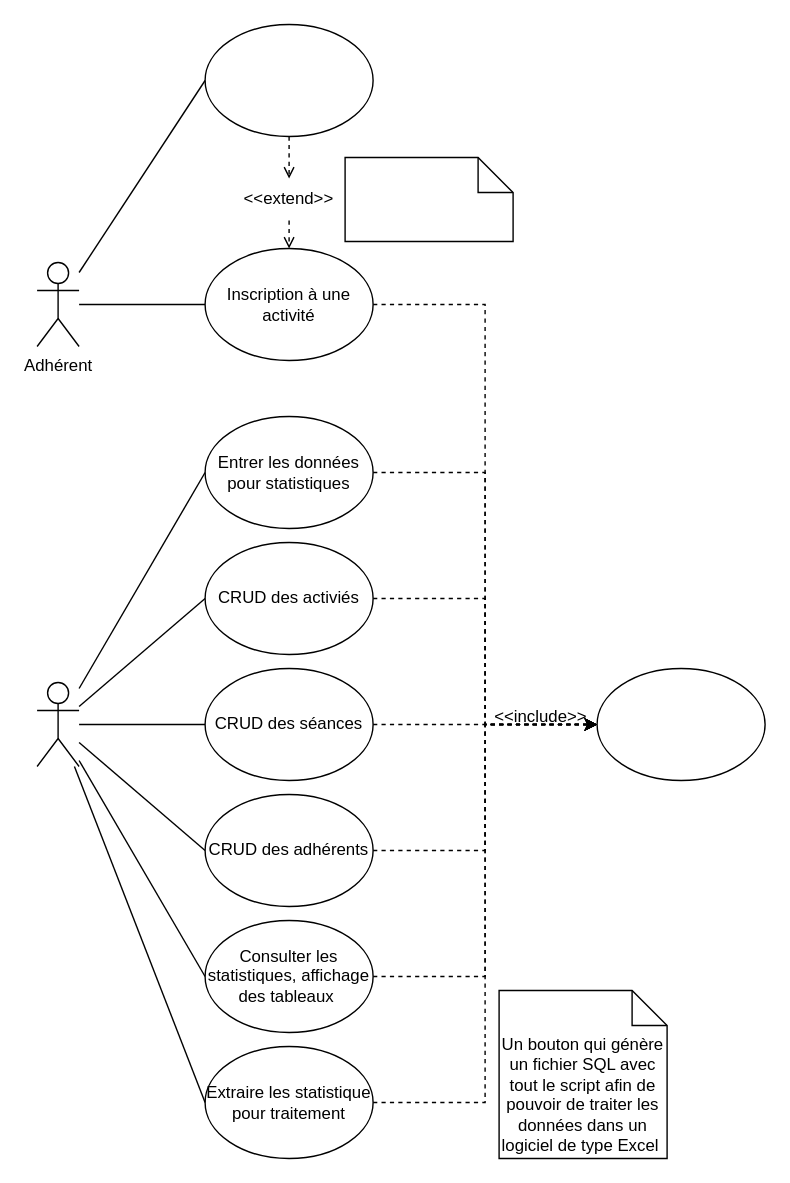
Image size: 790x1183. Some labels were removed from this diagram. Here are the shapes that lost their labels. From the top down, the box of each, then its label:
(204, 23, 373, 136): Consulter la liste des activités
(344, 156, 513, 241): Bouton "Participer" sur la page d'activité
(36, 681, 79, 766): Centre de loisirs
(596, 667, 765, 780): <<fragement>> Authentification
